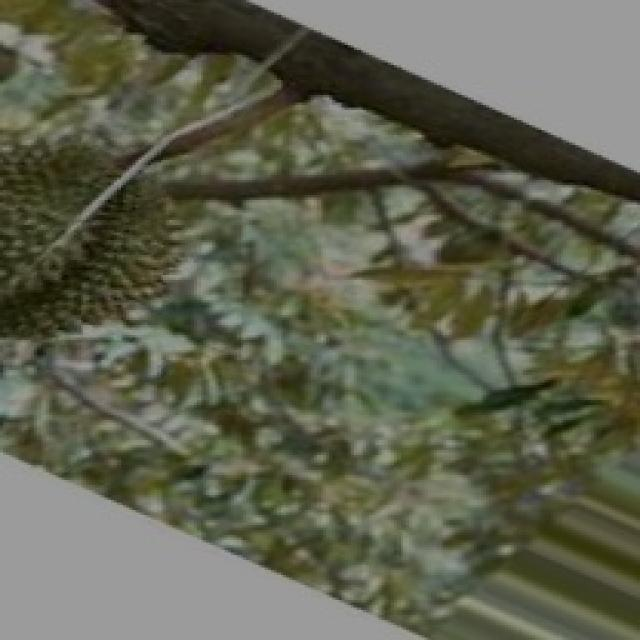fruit: (0, 160, 212, 365), (55, 0, 332, 88)
